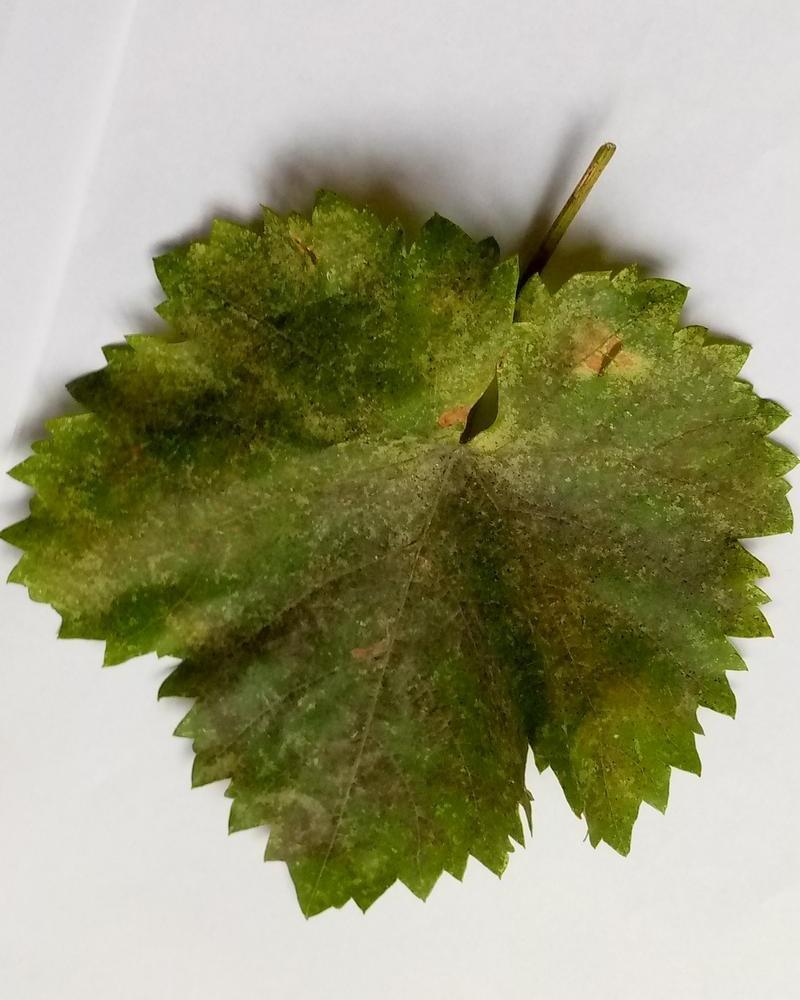Powdery-Mildew: (397, 311, 665, 489), (508, 603, 659, 734), (272, 216, 398, 319), (354, 621, 417, 684), (269, 791, 332, 854)
